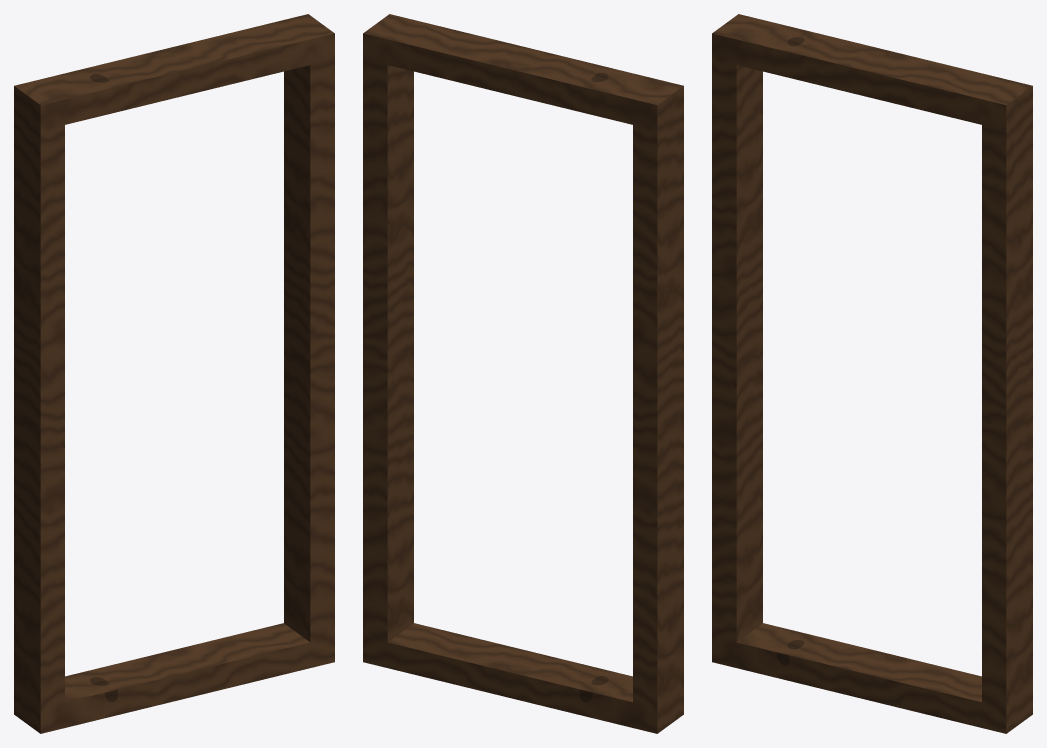
The model's file is window_frame_tall.glb.
3 views of the same model, side by side, from view 1: azimuth 30°, elevation 25°; view 2: azimuth 150°, elevation 25°; view 3: azimuth 330°, elevation 25° (orthographic).
Parts seen in each view (by area): view 1: jamb_l, jamb_r, head, stool; view 2: jamb_l, jamb_r, head, stool; view 3: jamb_r, jamb_l, head, stool.
Boxes of the visible parts, x1=… form: jamb_l: x1=14, y1=80, x2=64, y2=733; jamb_r: x1=284, y1=14, x2=334, y2=667; head: x1=39, y1=20, x2=310, y2=124; stool: x1=65, y1=623, x2=310, y2=727; jamb_l: x1=633, y1=80, x2=683, y2=733; jamb_r: x1=363, y1=14, x2=413, y2=667; head: x1=387, y1=20, x2=658, y2=124; stool: x1=387, y1=623, x2=632, y2=727; jamb_r: x1=982, y1=80, x2=1032, y2=733; jamb_l: x1=712, y1=14, x2=762, y2=667; head: x1=736, y1=20, x2=1007, y2=124; stool: x1=736, y1=623, x2=981, y2=727.
Bounding box in the file's own units: 0.96 × 1.96 × 0.15.
1 material, 1 textured.
